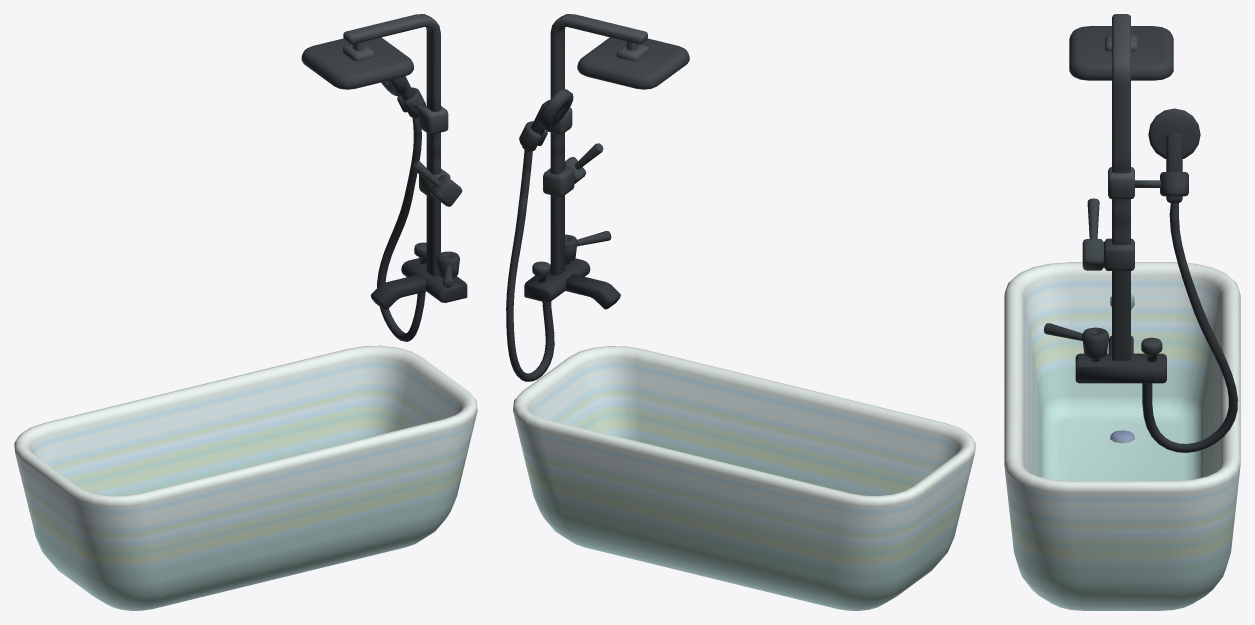
File: bath-03.glb
3 views of the same model, side by side, from view 1: azimuth 30°, elevation 25°; view 2: azimuth 150°, elevation 25°; view 3: azimuth 270°, elevation 25° (orthographic). The views are drawn at different scales.
Parts seen in each view (by area): view 1: Bath_03; view 2: Bath_03; view 3: Bath_03.
Boxes of the visible parts, x1,y1,x2,y2 form: Bath_03: [14, 14, 477, 610]; Bath_03: [506, 14, 975, 610]; Bath_03: [1004, 14, 1240, 610].
Size of the model in its own units: 1.79 by 2.14 by 0.7947.
1 material, 1 textured.
